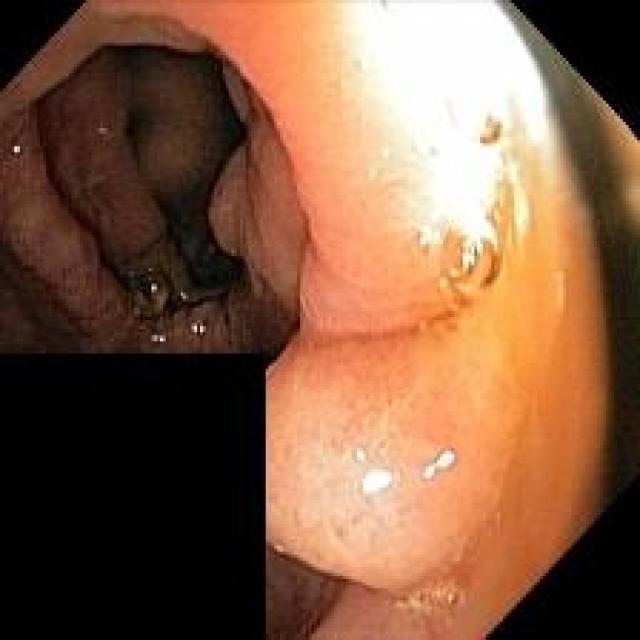Polyps: (270, 303, 548, 595), (209, 145, 248, 257)
